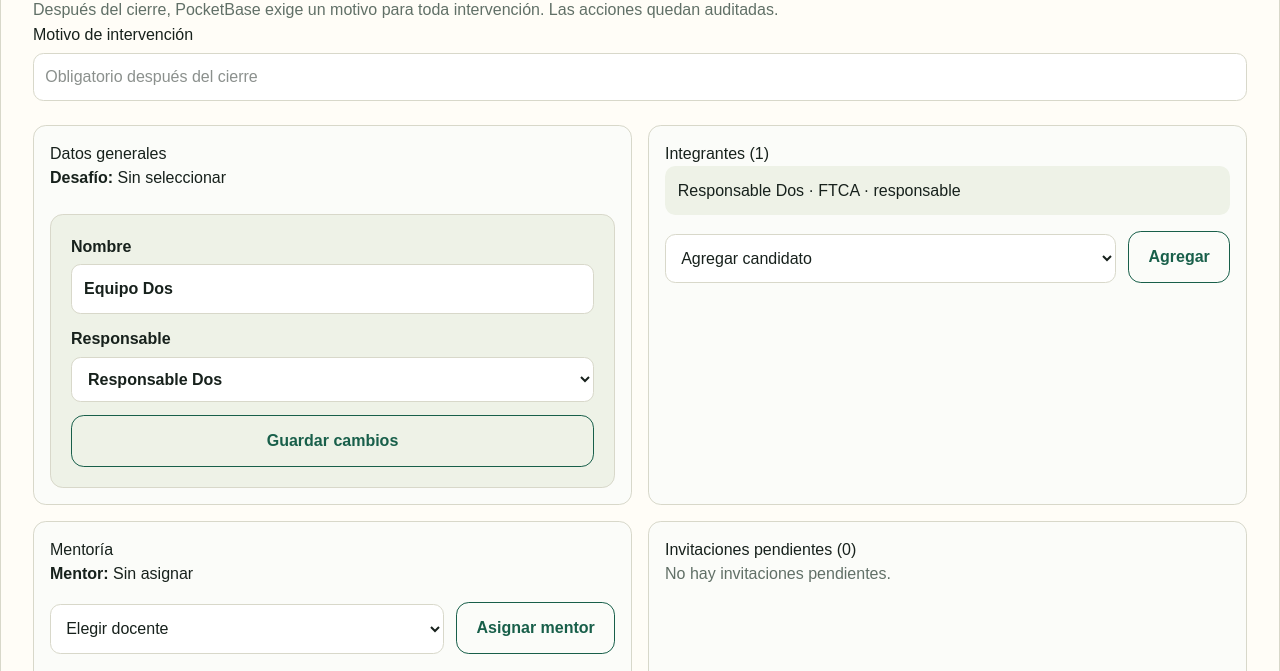
Test: admin team list and detail › keeps a mentor available for assignment and refreshes the selected detail
(page scrolled)
Expected: the text "Desafío:" is shown, x1=50 y1=169 x2=113 y2=186
Expected: the text "Sin seleccionar" is shown, x1=118 y1=169 x2=226 y2=186
Select "Docente Compartido · FACEN" in the dropdown named "Mentor de Equipo Dos" at (247, 629), box x1=50 y1=604 x2=444 y2=654
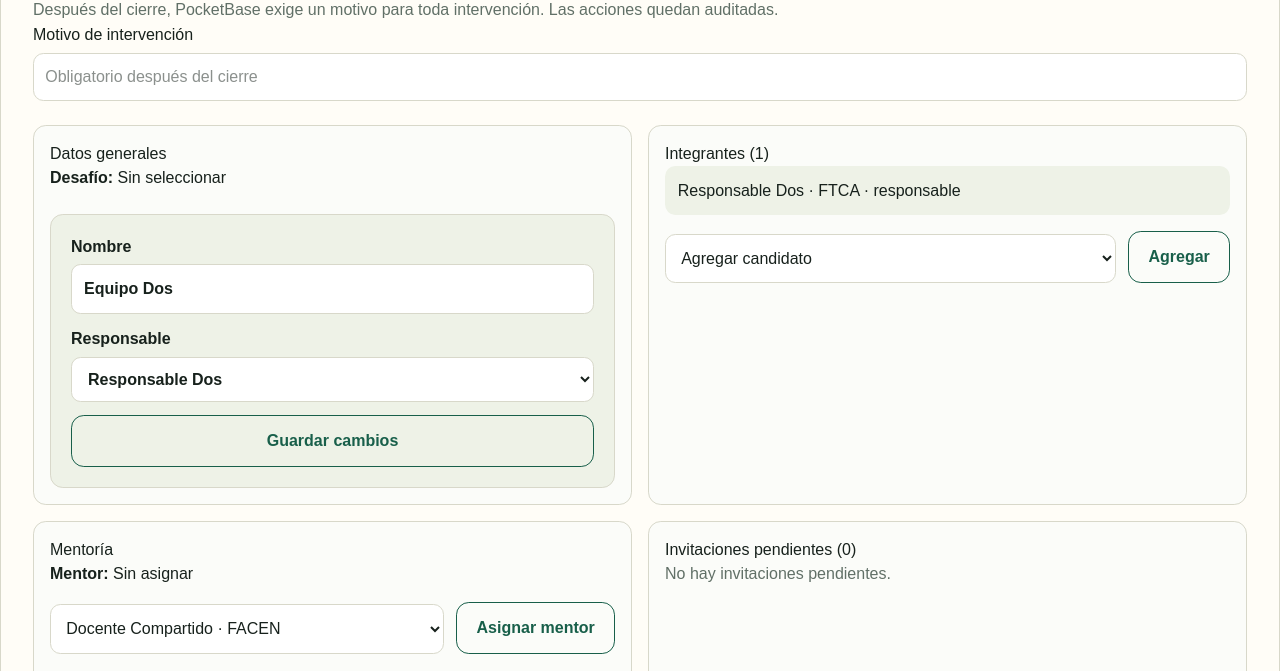
Submit the form "Asignar mentor", box x1=50 y1=602 x2=615 y2=654
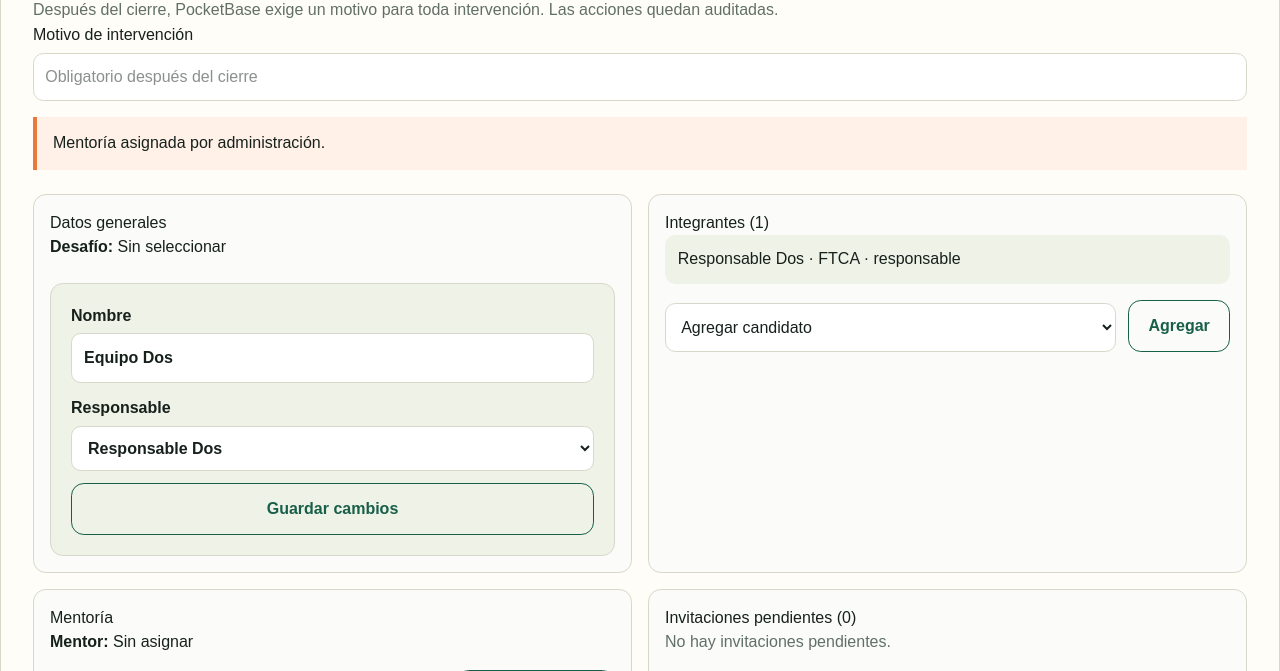
Now the text "Mentoría asignada por administración." is shown, box x1=33 y1=117 x2=1247 y2=170
